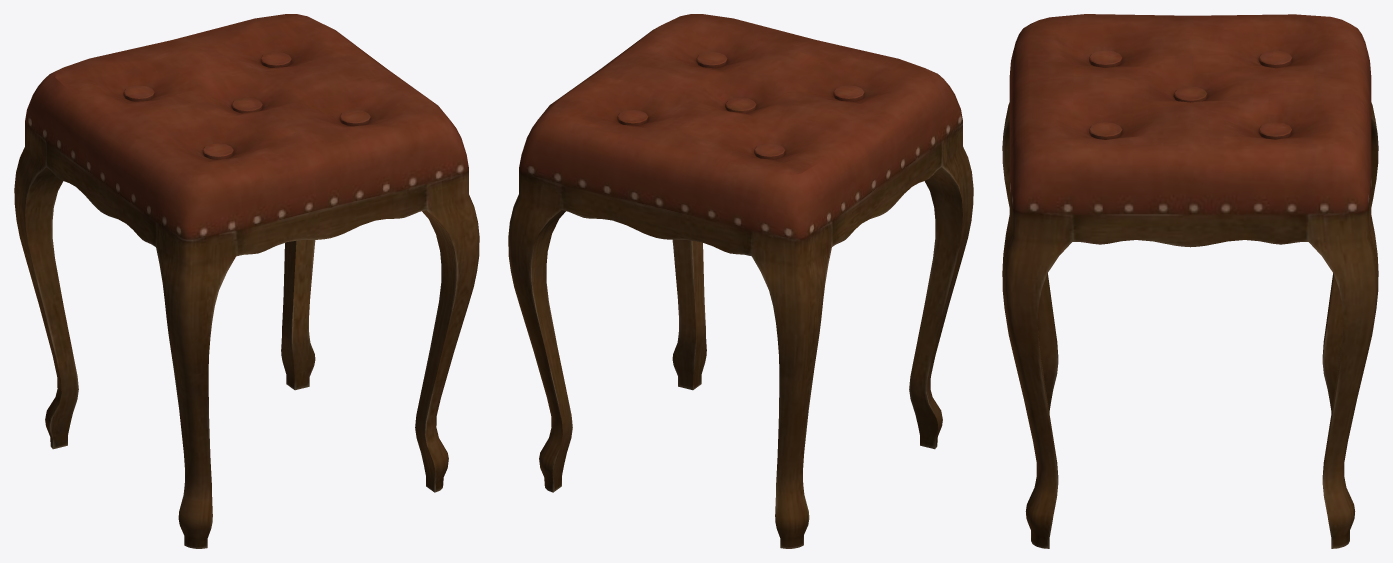
File: stool-vanity.glb
3 renders of one model, left to right at view 1: azimuth 30°, elevation 25°; view 2: azimuth 150°, elevation 25°; view 3: azimuth 270°, elevation 25°, orthographic. The views are drawn at different scales.
Visible parts, largest first — view 1: stool-vanity; view 2: stool-vanity; view 3: stool-vanity.
Boxes of the visible parts, x1,y1,x2,y2 form: stool-vanity: (14, 14, 479, 548); stool-vanity: (508, 14, 973, 548); stool-vanity: (1002, 14, 1378, 548).
Size of the model in its own units: 0.3362 by 0.3984 by 0.3367.
Materials: 1 (1 with a texture image).
